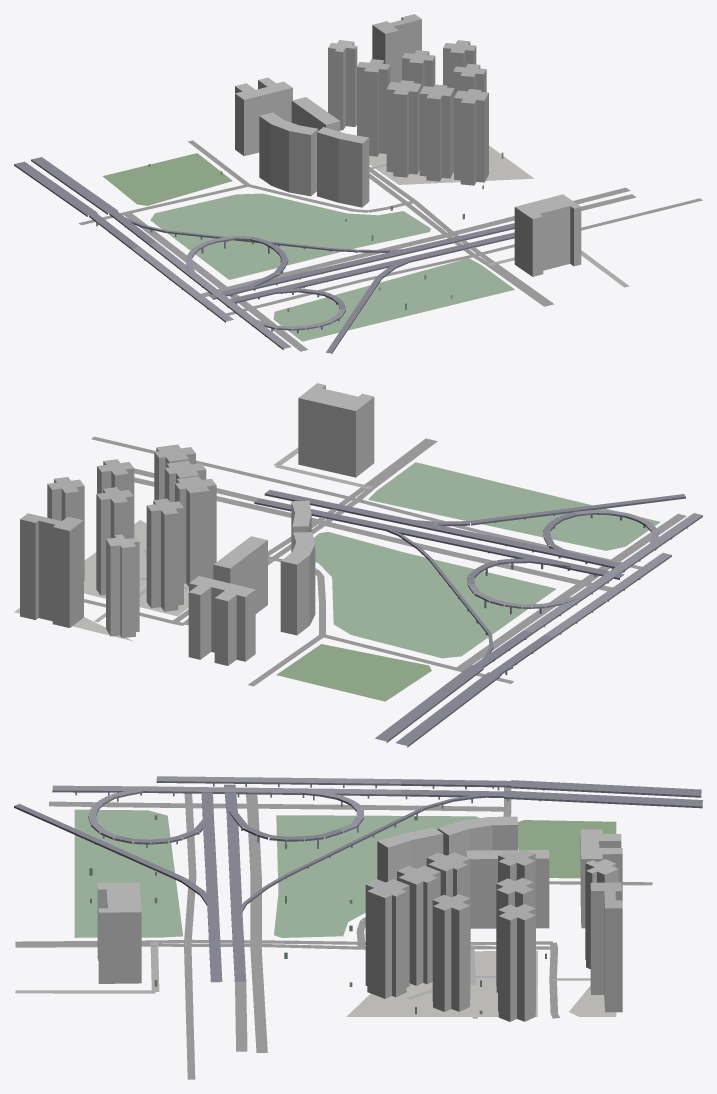
The picture shows the model from 3 angles, top to bottom: view 1: azimuth 30°, elevation 25°; view 2: azimuth 150°, elevation 25°; view 3: azimuth 270°, elevation 25°; orthographic projection. The views are drawn at different scales.
Bounding box in the file's own units: 648 × 108 × 636.
